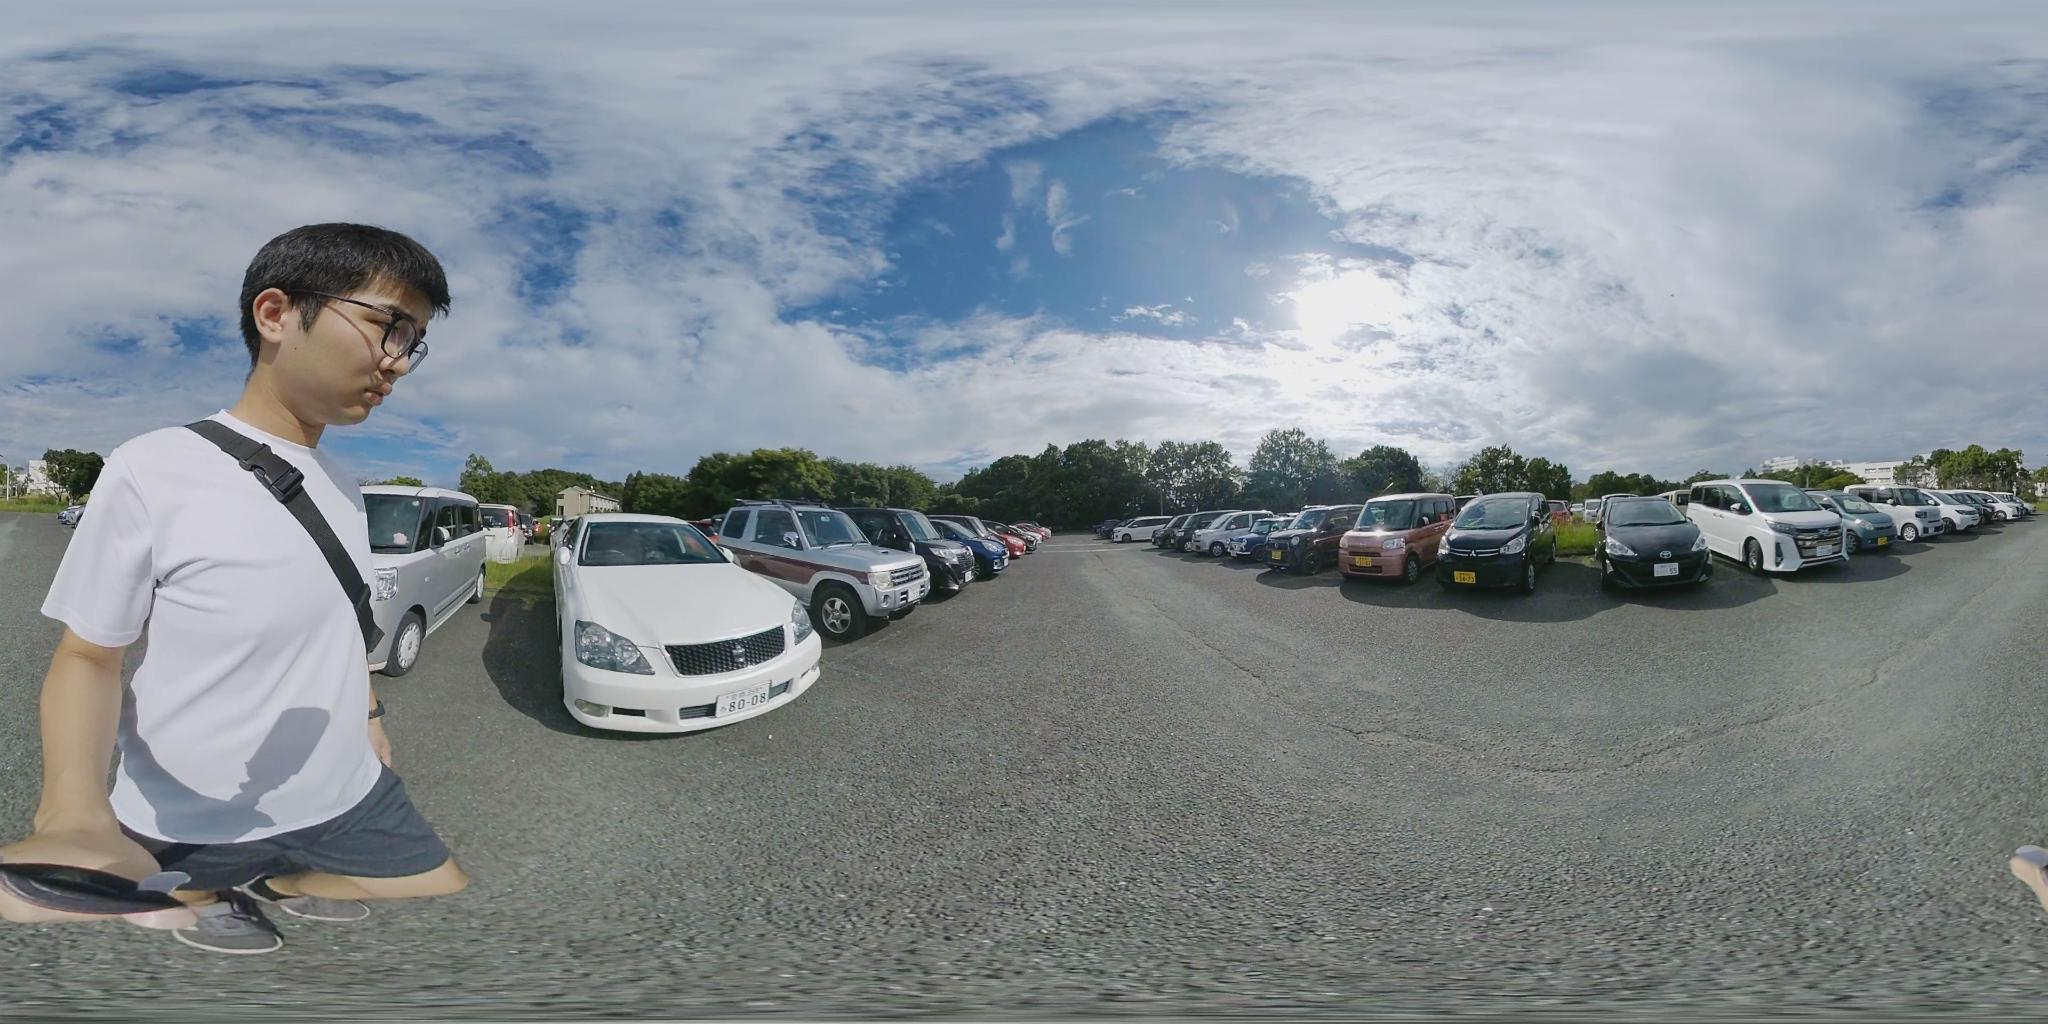car: (533, 509, 832, 738), (699, 504, 931, 641), (1669, 479, 1876, 575), (1331, 494, 1465, 580), (842, 509, 987, 589), (1603, 496, 1708, 592), (1441, 492, 1548, 584), (1249, 509, 1360, 573), (913, 516, 1011, 580), (1851, 486, 1960, 542), (1166, 512, 1270, 558), (1093, 519, 1176, 543)
